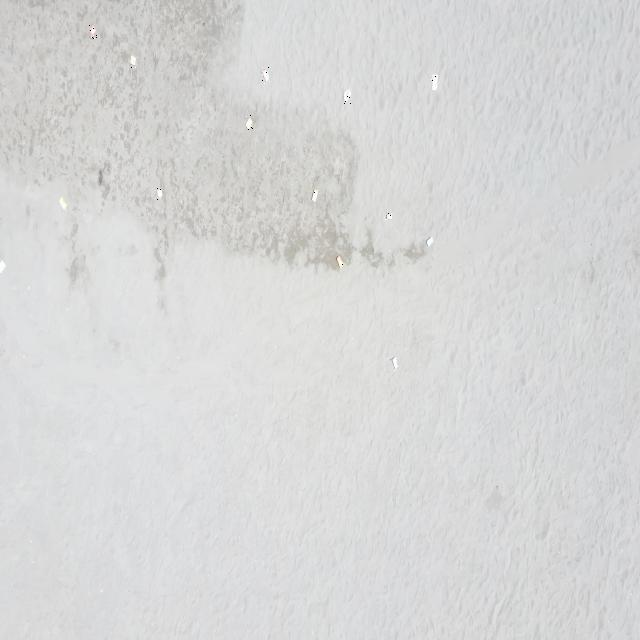retort-pouch: (244, 115, 254, 133), (429, 72, 438, 91), (342, 88, 352, 104), (262, 66, 270, 84), (58, 196, 68, 210), (88, 24, 97, 39), (391, 354, 398, 371), (336, 253, 343, 269), (426, 234, 434, 248), (129, 54, 137, 68), (156, 187, 163, 201), (312, 188, 318, 204), (0, 259, 6, 274), (385, 213, 393, 222)
